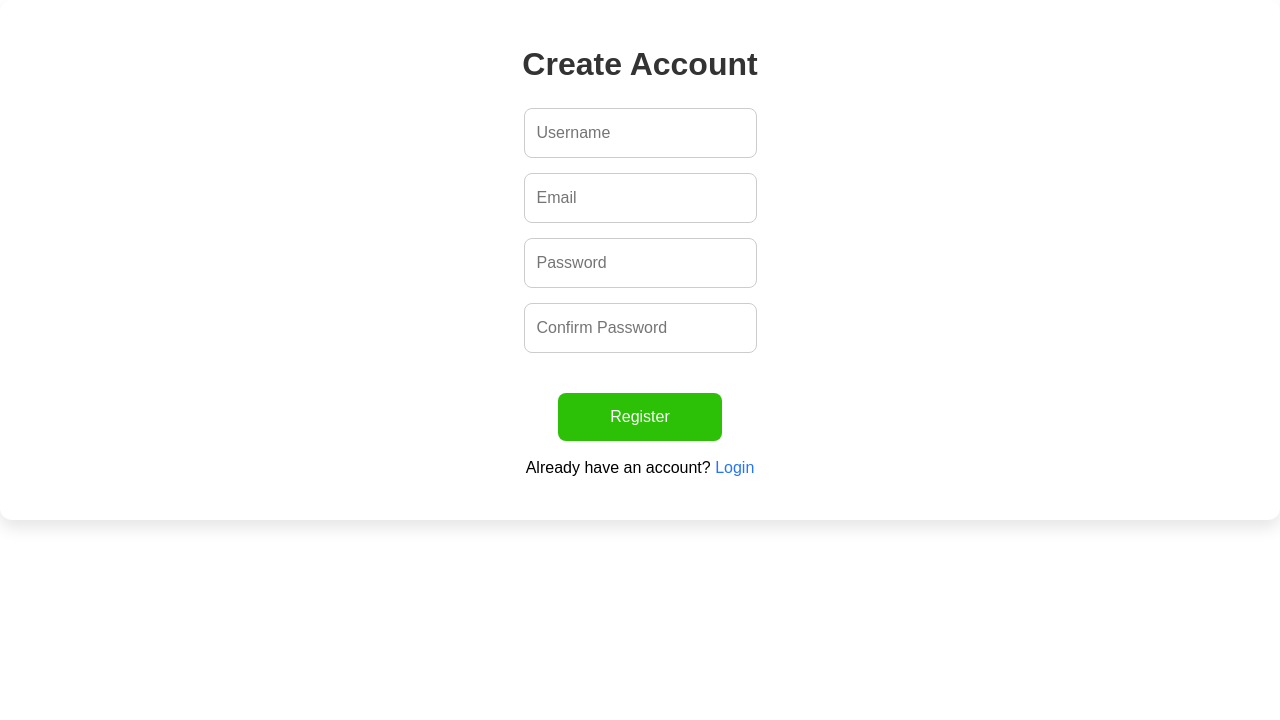
Test case: Register.vue › when registration fails › should display error message for registration error
Type "testuser" into the field with placeholder "Username" at coordinates (640, 133), box left=524, top=108, right=756, bottom=158
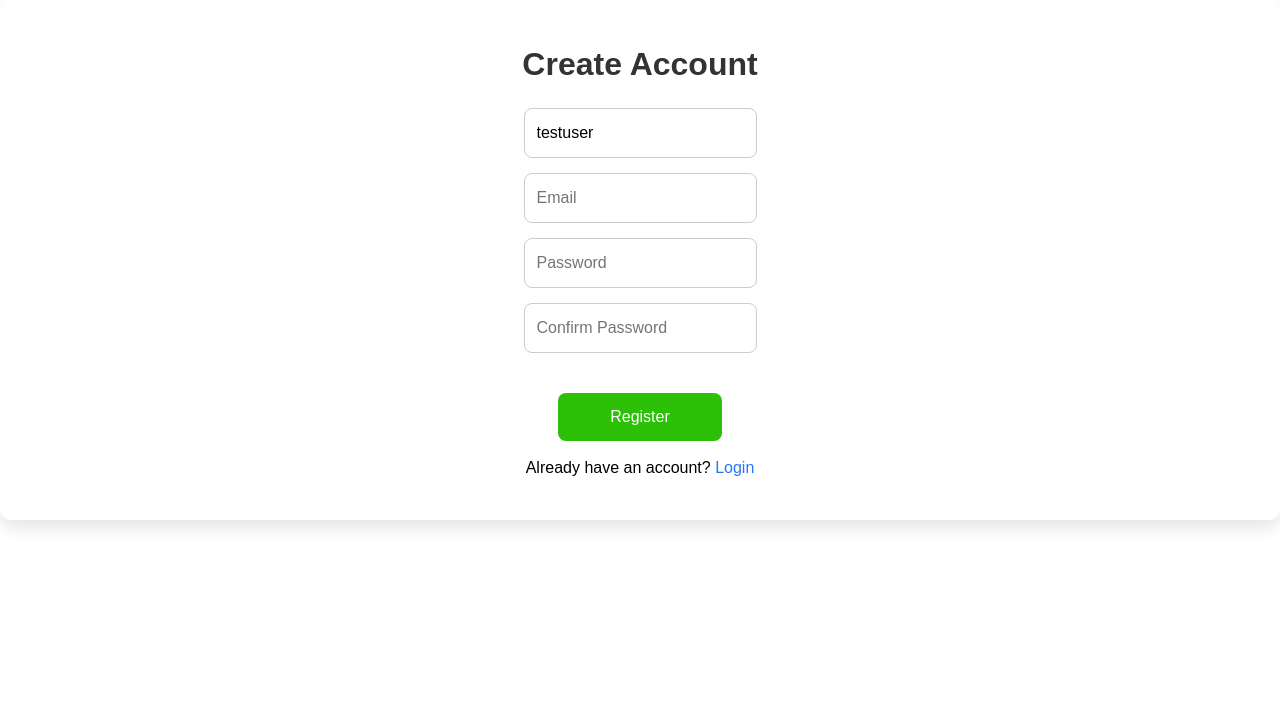
Type "test@example.com" into the field with placeholder "Email" at coordinates (640, 198), box left=524, top=173, right=756, bottom=223
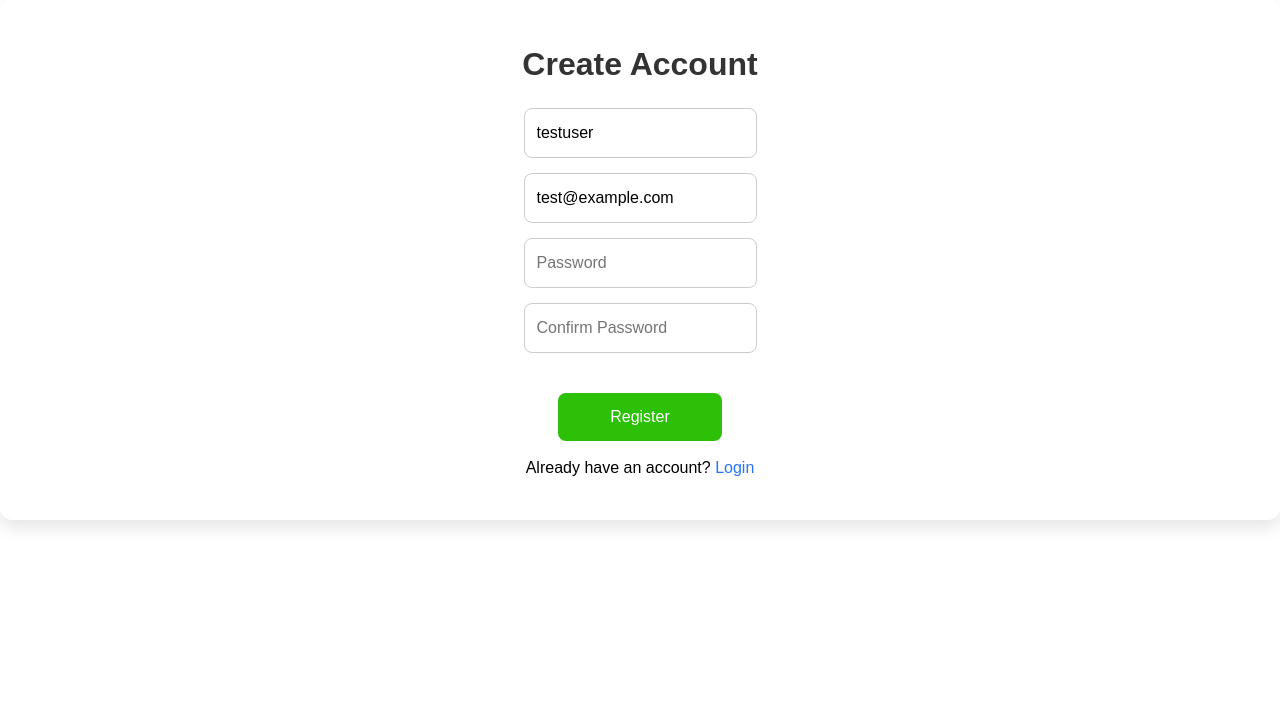
Type "password123" into the password field with placeholder "Password" at coordinates (640, 263), box left=524, top=238, right=756, bottom=288
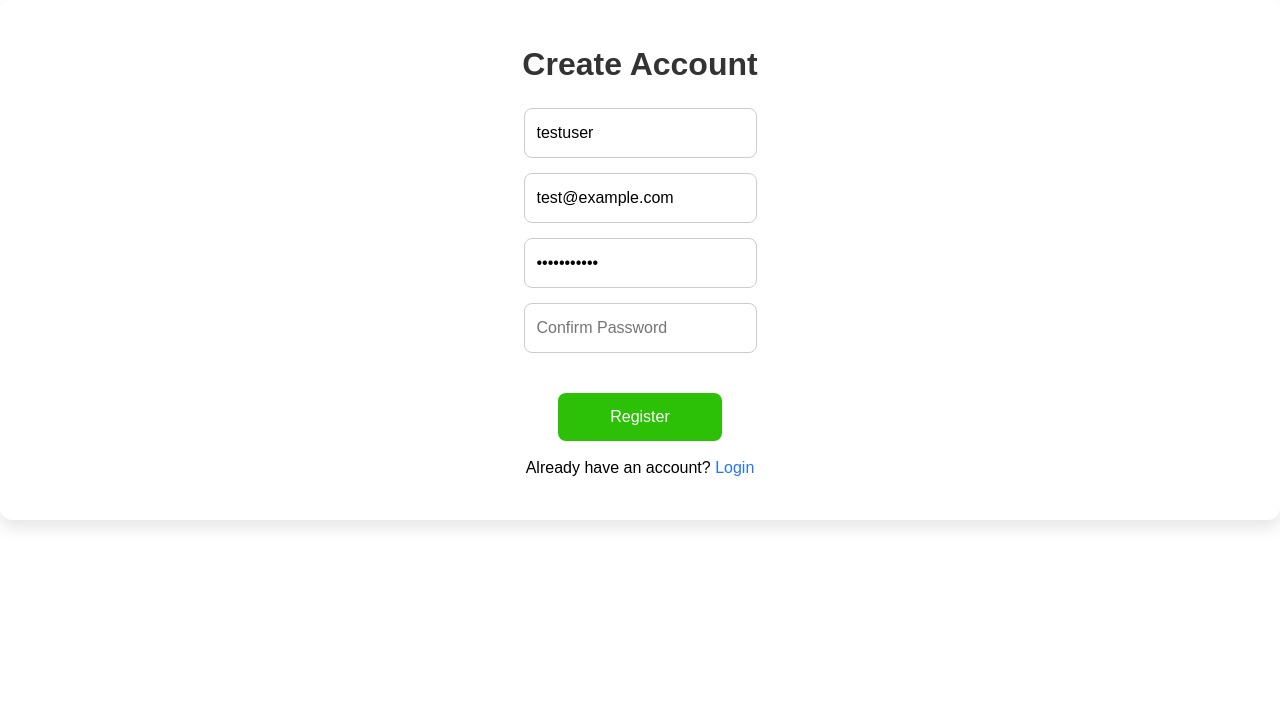
Type "password123" into the password field with placeholder "Confirm Password" at coordinates (640, 328), box left=524, top=303, right=756, bottom=353
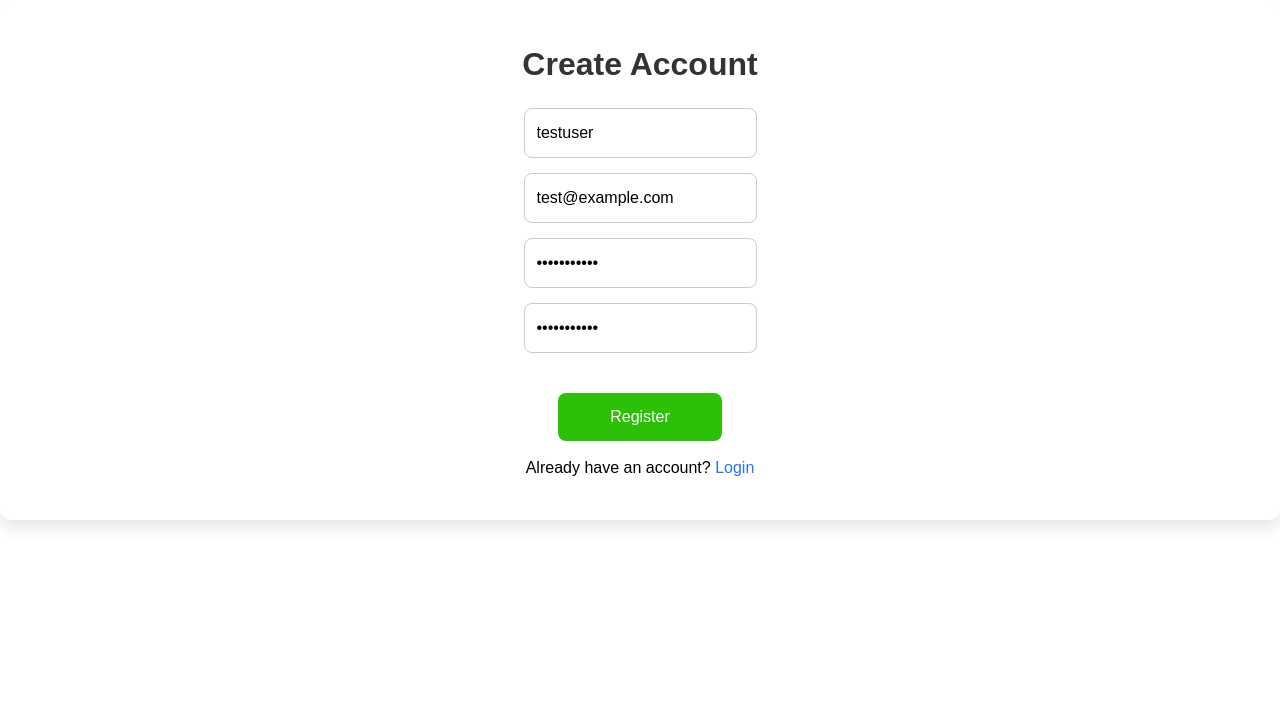
Submit the form, box left=524, top=108, right=756, bottom=441
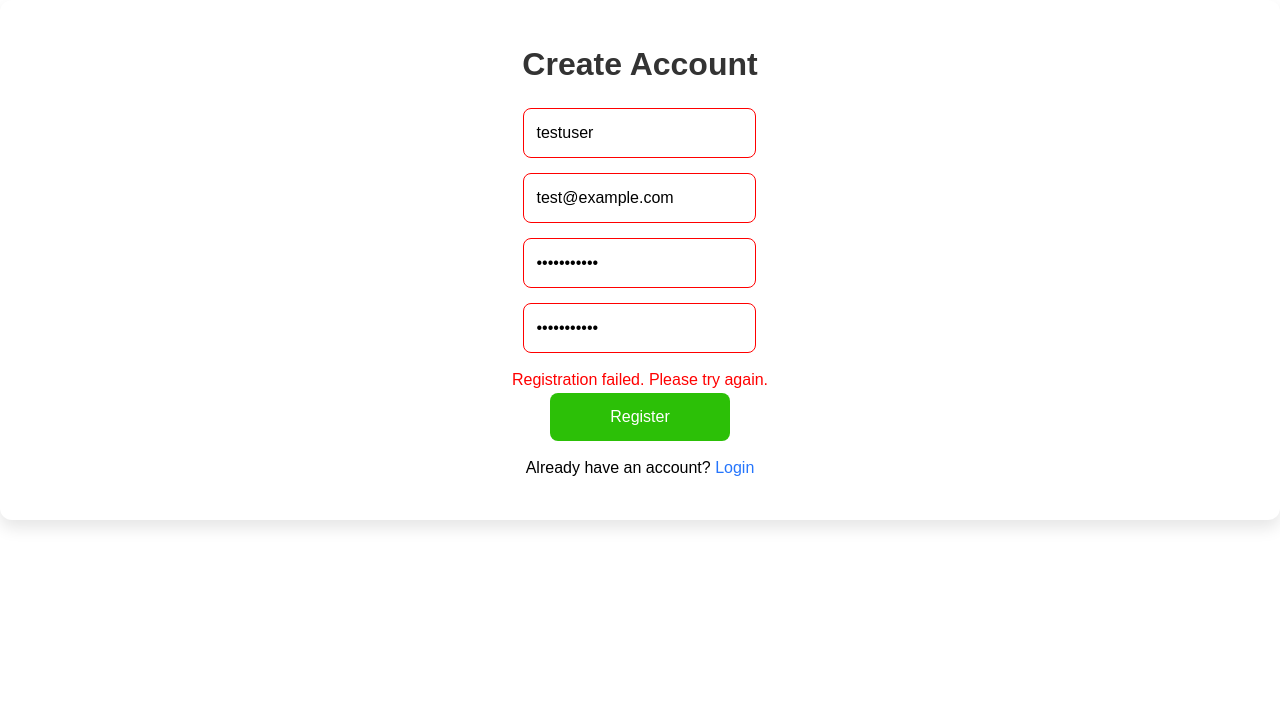
Expected: the text with class "error-message" reads "Registration failed. Please try again.", left=512, top=371, right=768, bottom=388
